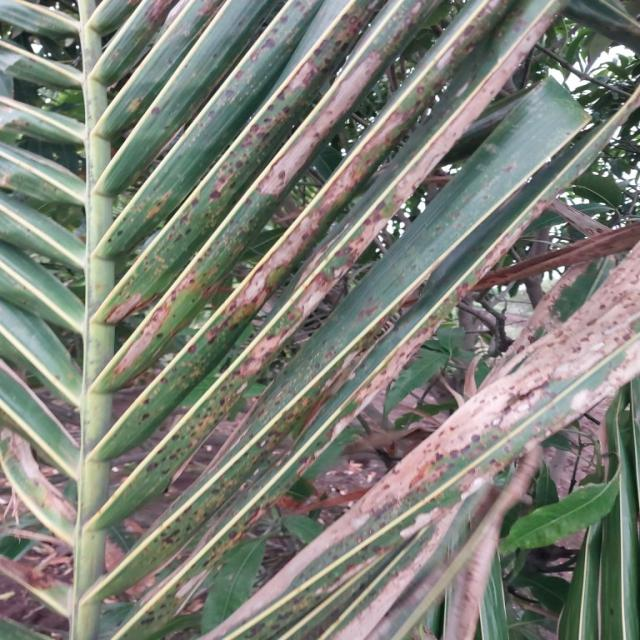gray leaf spot: (144, 88, 640, 624), (104, 0, 573, 522), (210, 239, 640, 640)
